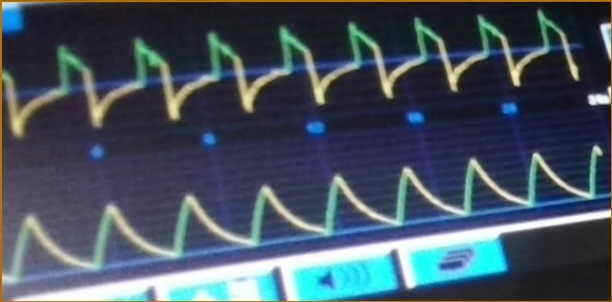Accumulation Flow: (4, 7, 580, 131)
Volume: (1, 149, 602, 284)
